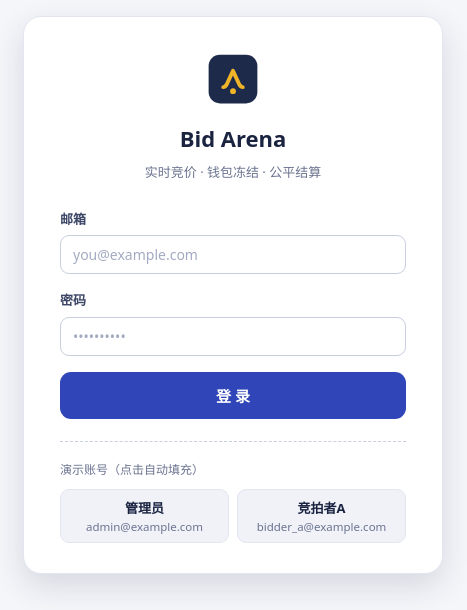
Test: LoginView › 演示账号按钮自动填充邮箱与密码
The width and height of the screenshot is (467, 610).
Click the button with class "demo-btn" showing "竞拍者A bidder_a@example.com": (322, 516) [237,489,406,543]
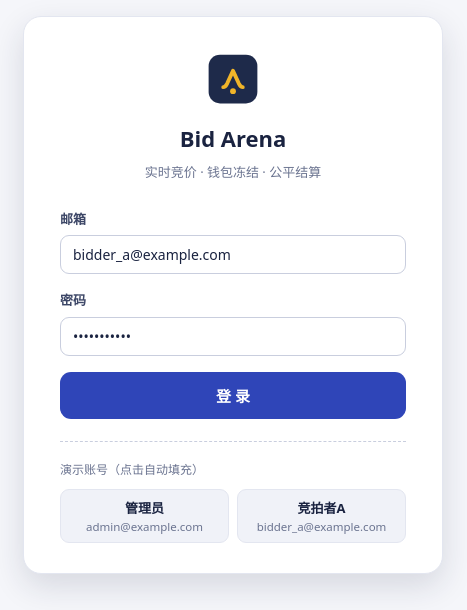
Expected: the field with id "login-email" holds "bidder_a@example.com", [60,235,406,274]
Expected: the password field with id "login-password" holds "Test123456!", [60,317,406,356]
